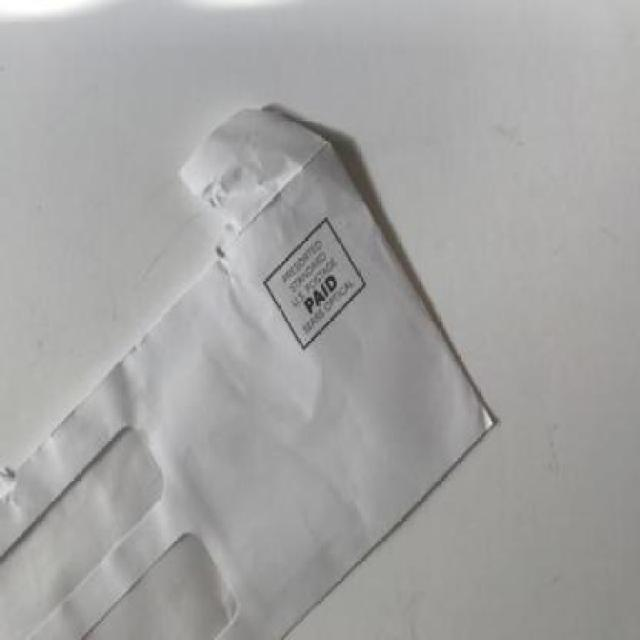paper: (4, 106, 490, 638)
